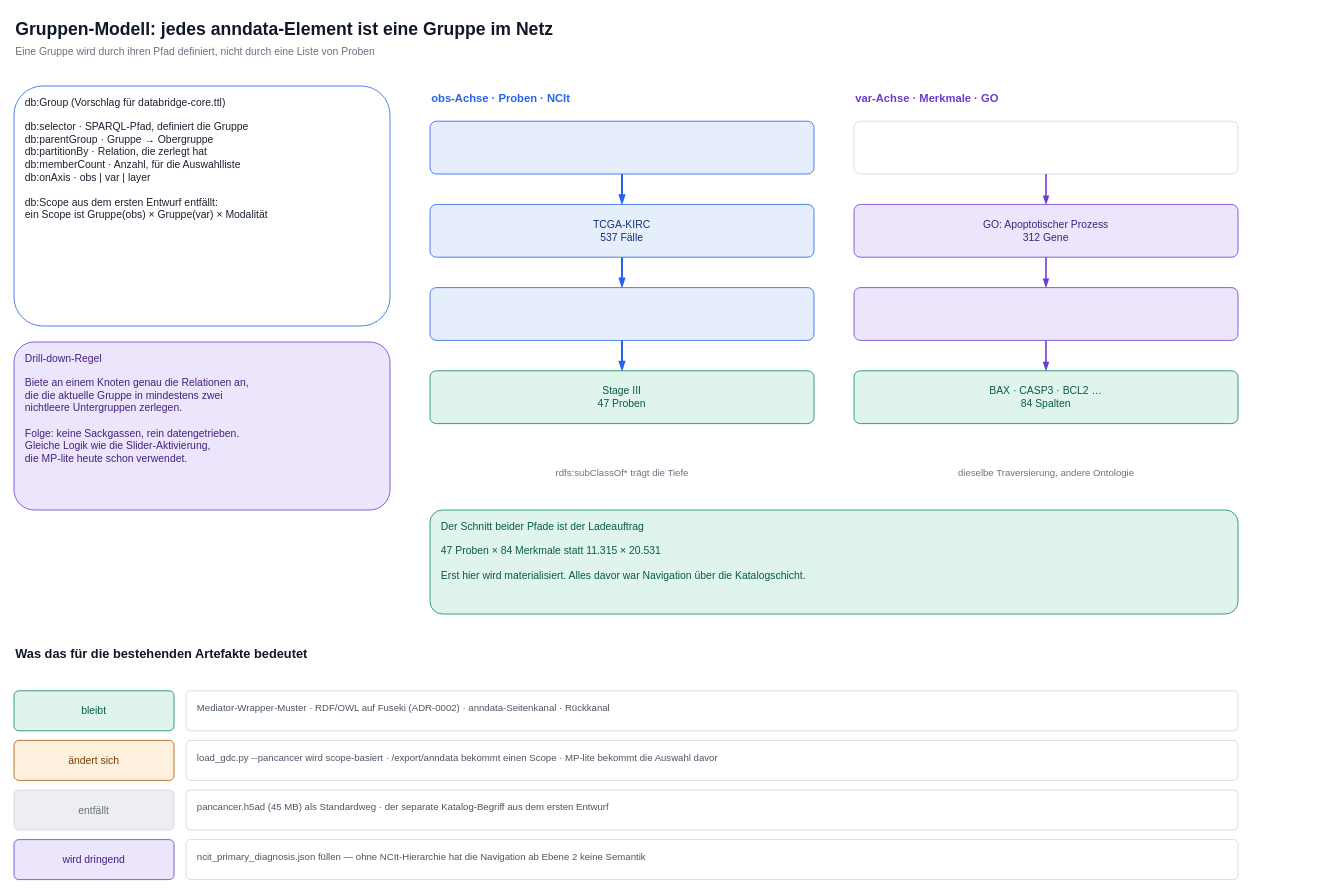
Image size: 1324x894. Some labels were removed from this diagram. Here are the shapes that lost their labels. From the top down, the centre of each, then its label:
At (621,147): "TCGA 33 Kohorten".
At (1045,147): "Alle Gene 20.531 var".
At (621,313): "Clear cell adenocarcinoma 168 Fälle".
At (1045,313): "GO: Intrinsischer Signalweg 84 Gene".
